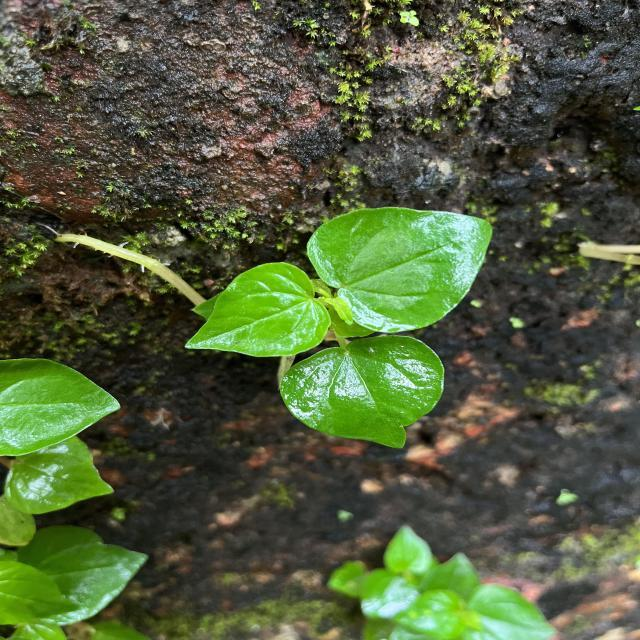Peperomia pellucida: (303, 204, 496, 336), (277, 333, 448, 451), (180, 259, 334, 359)
